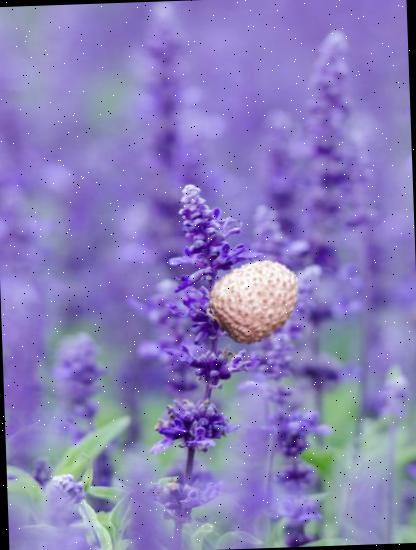Lychee: (210, 254, 306, 349)
